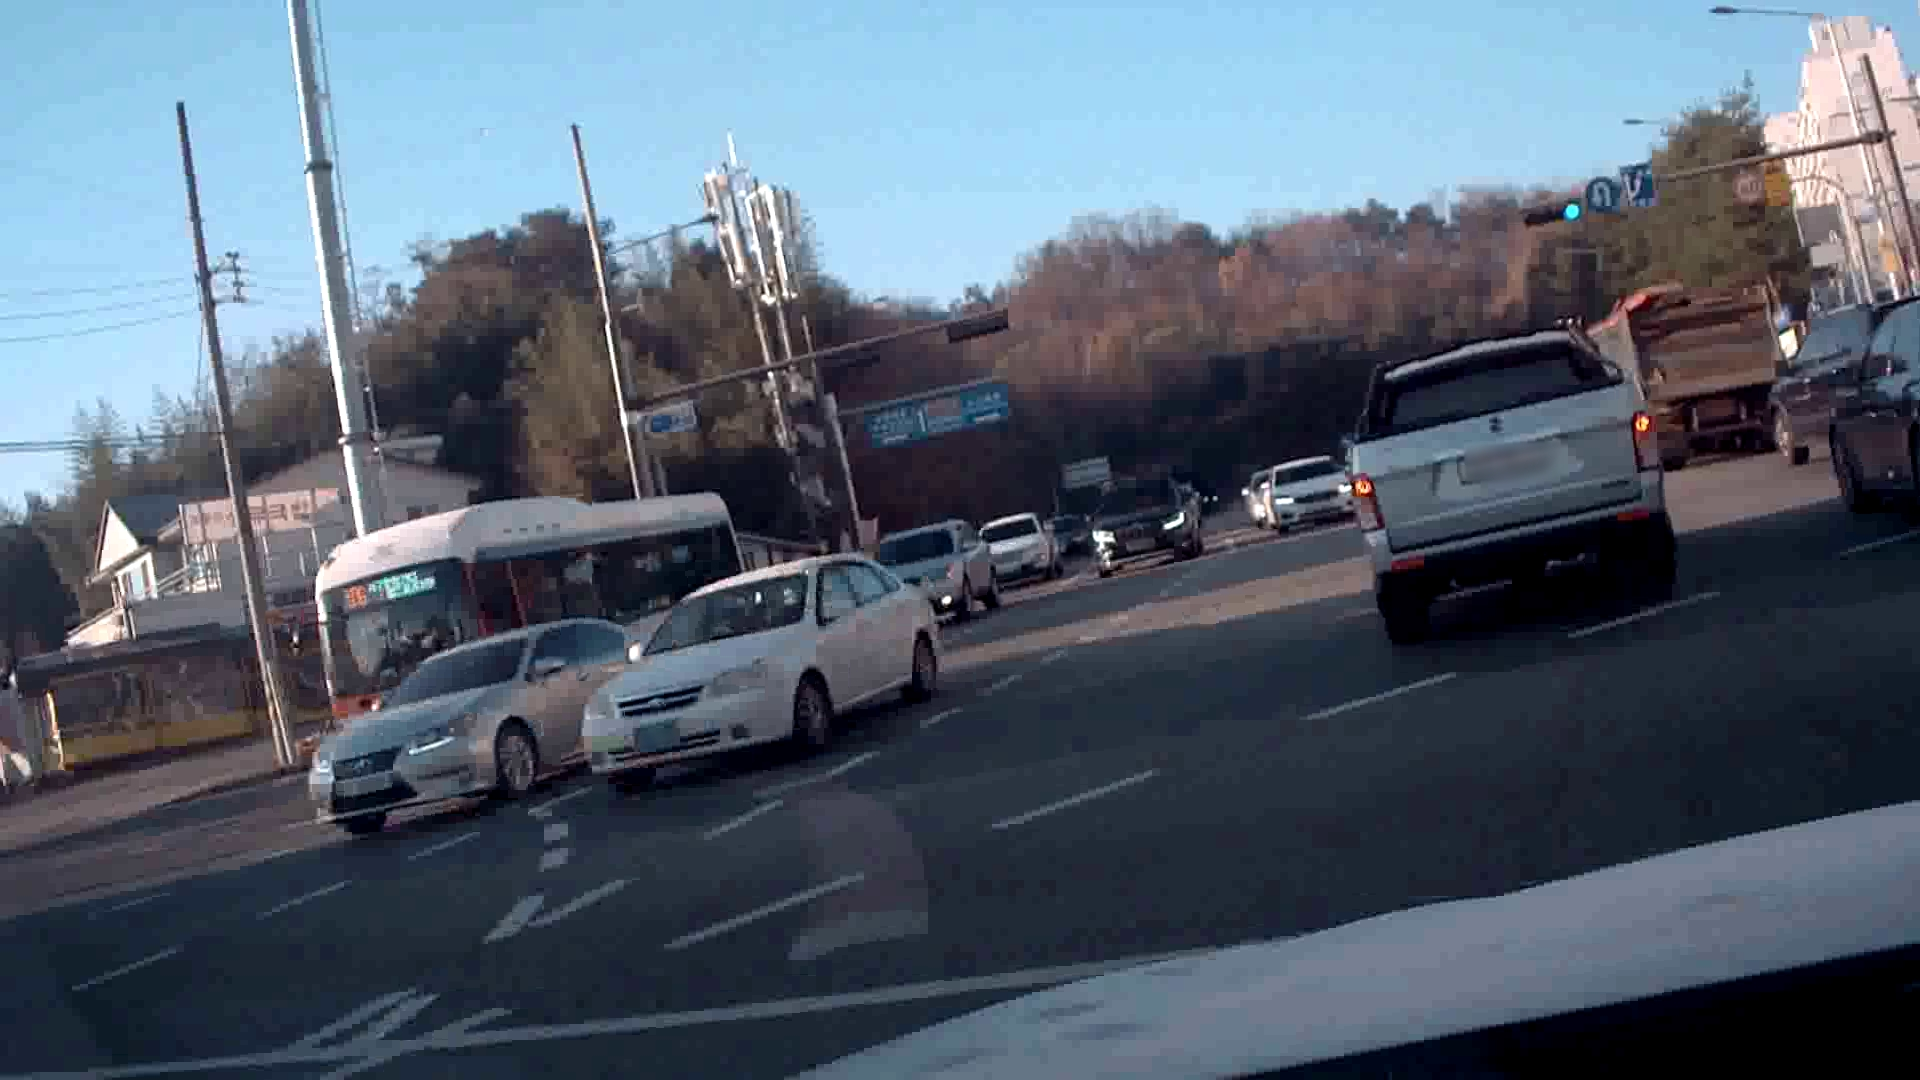trafficLight: (1520, 193, 1581, 232)
trafficSignCircle: (1730, 169, 1772, 207), (1586, 174, 1618, 216)
trafficSignRTG: (1625, 162, 1664, 211)
